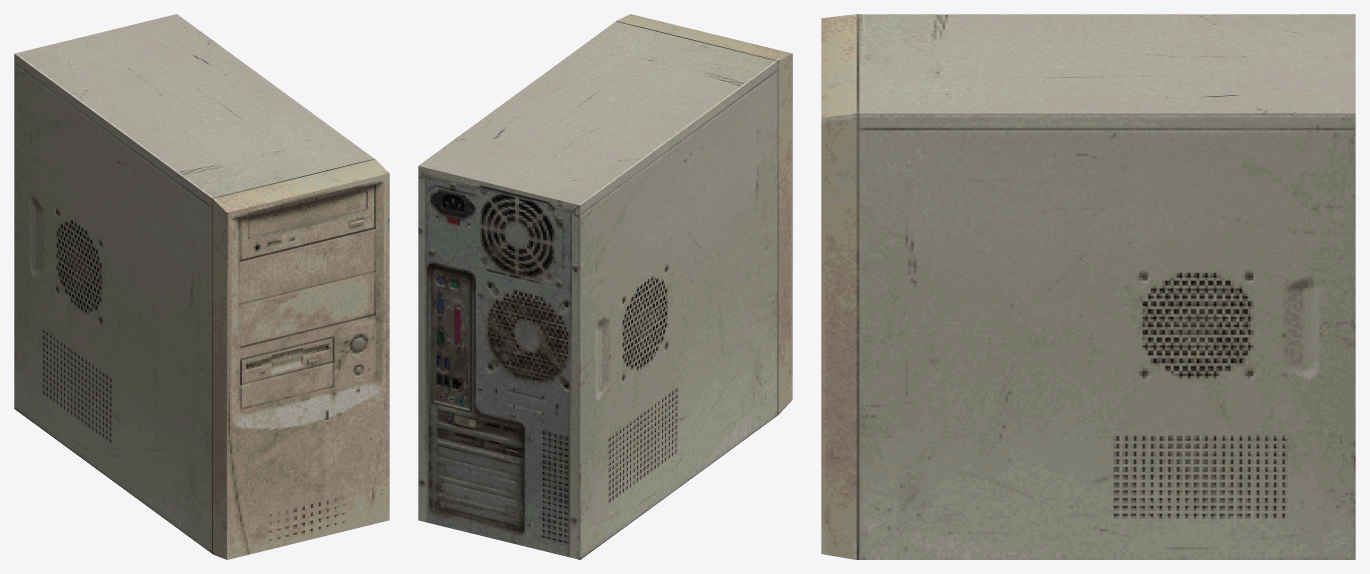
The model's file is SM_ComputerCase.fbx.
The picture shows the model from 3 angles, left to right: view 1: azimuth 30°, elevation 25°; view 2: azimuth 150°, elevation 25°; view 3: azimuth 270°, elevation 25°; orthographic projection. The views are drawn at different scales.
Visible parts, largest first — view 1: SM_ComputerCase; view 2: SM_ComputerCase; view 3: SM_ComputerCase.
Boxes of the visible parts, x1,y1,x2,y2 form: SM_ComputerCase: (14, 14, 389, 559); SM_ComputerCase: (418, 14, 792, 559); SM_ComputerCase: (821, 14, 1355, 559).
Size of the model in its own units: 19.57 by 40.89 by 44.38.
1 material, 1 textured.
